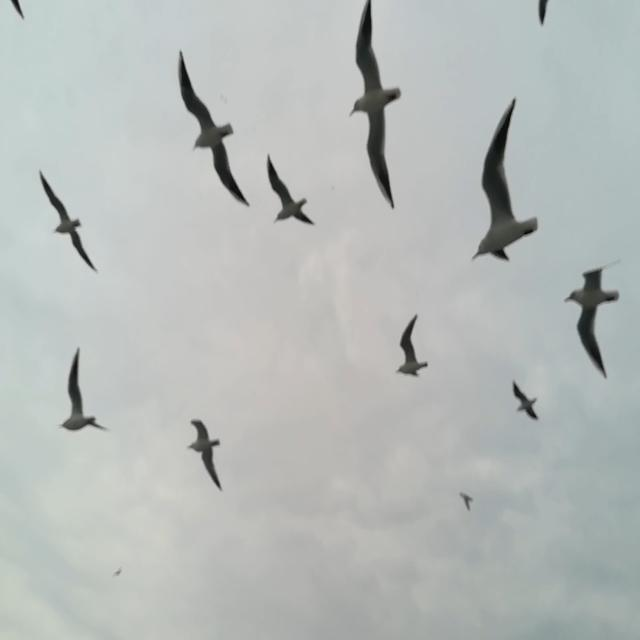bird: (178, 50, 250, 210), (348, 0, 402, 211), (471, 97, 538, 264), (562, 257, 622, 383), (38, 171, 98, 272), (58, 346, 113, 432), (266, 154, 316, 225), (185, 418, 223, 492), (396, 313, 428, 378), (510, 379, 540, 421), (458, 488, 475, 510), (537, 0, 551, 26), (10, 0, 26, 21), (113, 566, 124, 578)
